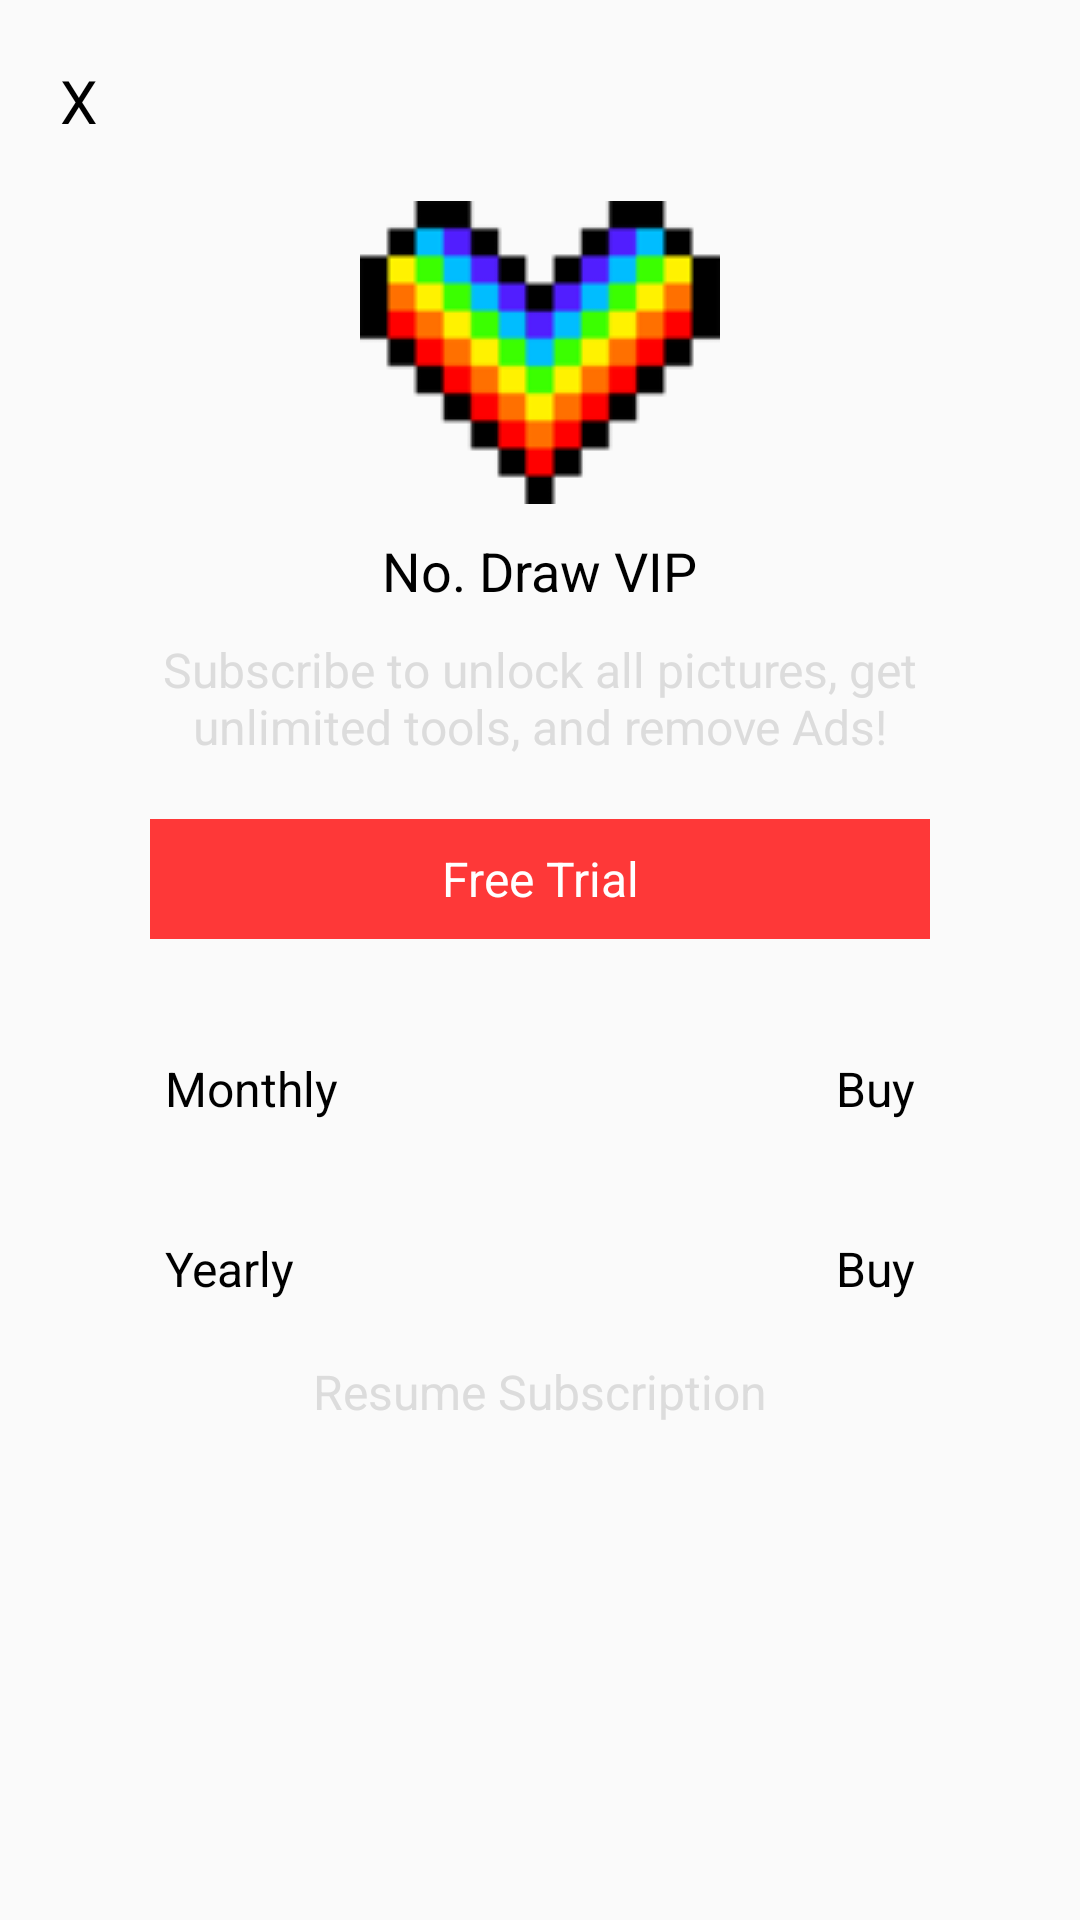

Icon click points for this 1080 × 1920 phone screenshot, format point (x, y):
heart: point (540, 352)
